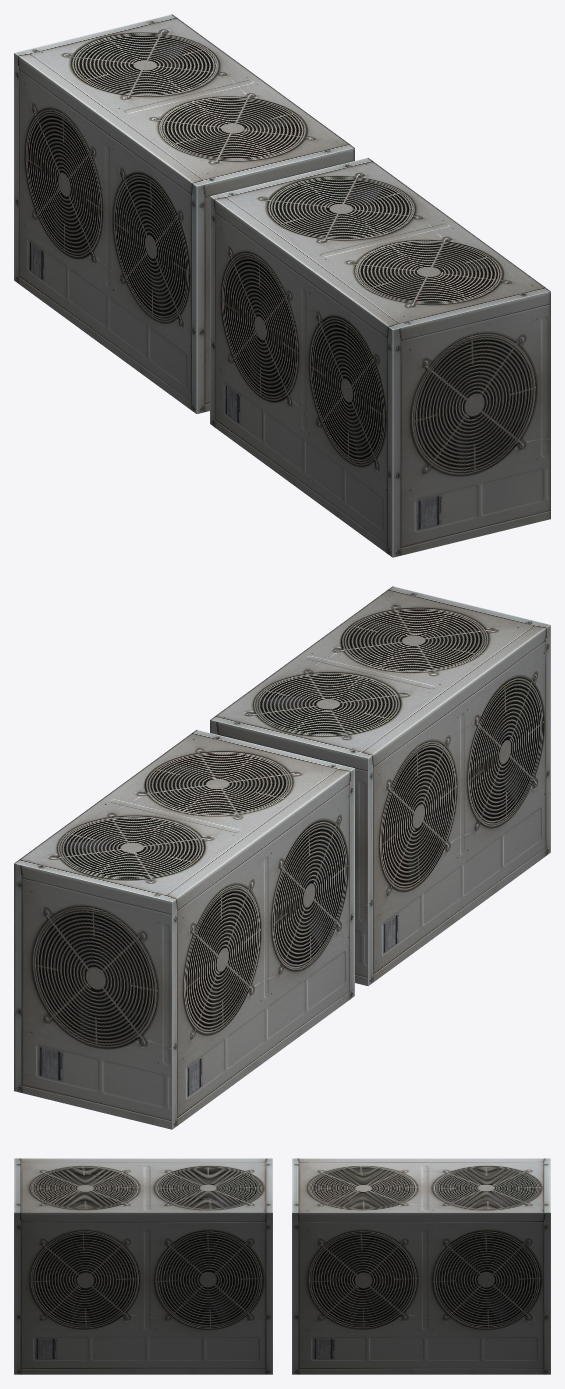
Rendered from Hangar_Vent.FBX.
3 views of the same model, one above another, from view 1: azimuth 30°, elevation 25°; view 2: azimuth 150°, elevation 25°; view 3: azimuth 270°, elevation 25° (orthographic). The views are drawn at different scales.
Visible parts, largest first — view 1: Hangar_Vent; view 2: Hangar_Vent; view 3: Hangar_Vent.
Part boxes in pixels (bbox=[...]): Hangar_Vent: bbox=[14, 14, 550, 557]; Hangar_Vent: bbox=[14, 586, 550, 1129]; Hangar_Vent: bbox=[14, 1158, 550, 1374].
Size of the model in its own units: 131 by 180 by 542.
